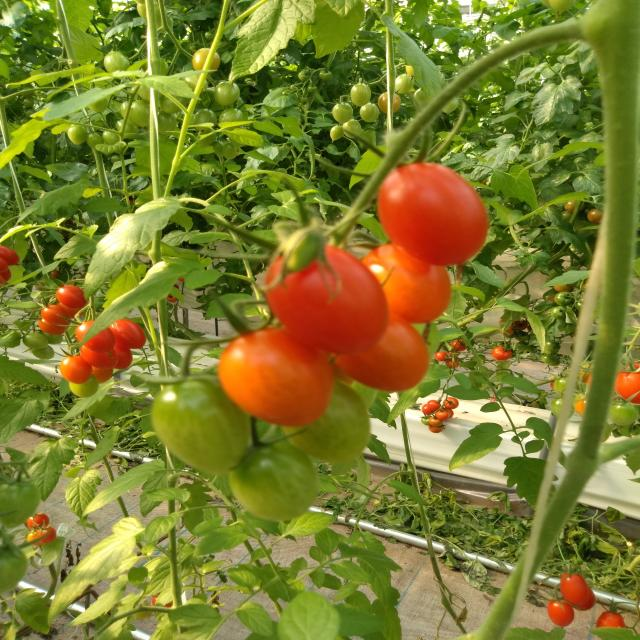c-half-riped: (218, 327, 334, 428), (360, 242, 452, 324), (60, 353, 92, 384), (192, 48, 220, 75), (41, 304, 72, 326), (377, 91, 401, 114), (37, 318, 65, 335), (56, 301, 82, 319), (91, 364, 113, 383), (27, 529, 44, 546)
c-riped: (266, 242, 389, 354), (376, 161, 489, 268), (326, 309, 430, 392), (74, 320, 116, 353), (109, 319, 146, 349), (560, 571, 590, 606), (614, 365, 640, 404), (80, 344, 117, 370), (547, 597, 574, 627), (56, 285, 88, 308), (568, 585, 596, 611), (112, 342, 133, 370), (595, 610, 627, 628), (34, 525, 57, 544), (27, 512, 50, 530), (0, 246, 19, 266), (0, 256, 8, 272)
c-unriped: (152, 375, 249, 475), (278, 378, 370, 464), (229, 441, 320, 521), (0, 478, 40, 529), (0, 544, 28, 596), (608, 400, 639, 426), (68, 374, 100, 397), (104, 51, 130, 78), (214, 81, 241, 106), (218, 107, 244, 131), (194, 108, 218, 133), (161, 92, 187, 114), (129, 100, 150, 127), (158, 108, 177, 135), (120, 100, 138, 127), (351, 84, 372, 106), (23, 332, 48, 350), (67, 124, 88, 145), (332, 103, 353, 124), (360, 102, 380, 123), (394, 73, 414, 94), (115, 119, 138, 137), (197, 128, 216, 148), (102, 129, 124, 146), (342, 120, 362, 138), (86, 133, 105, 151), (32, 345, 54, 359), (87, 97, 107, 112), (40, 332, 63, 344), (442, 97, 459, 113), (330, 126, 344, 140)
